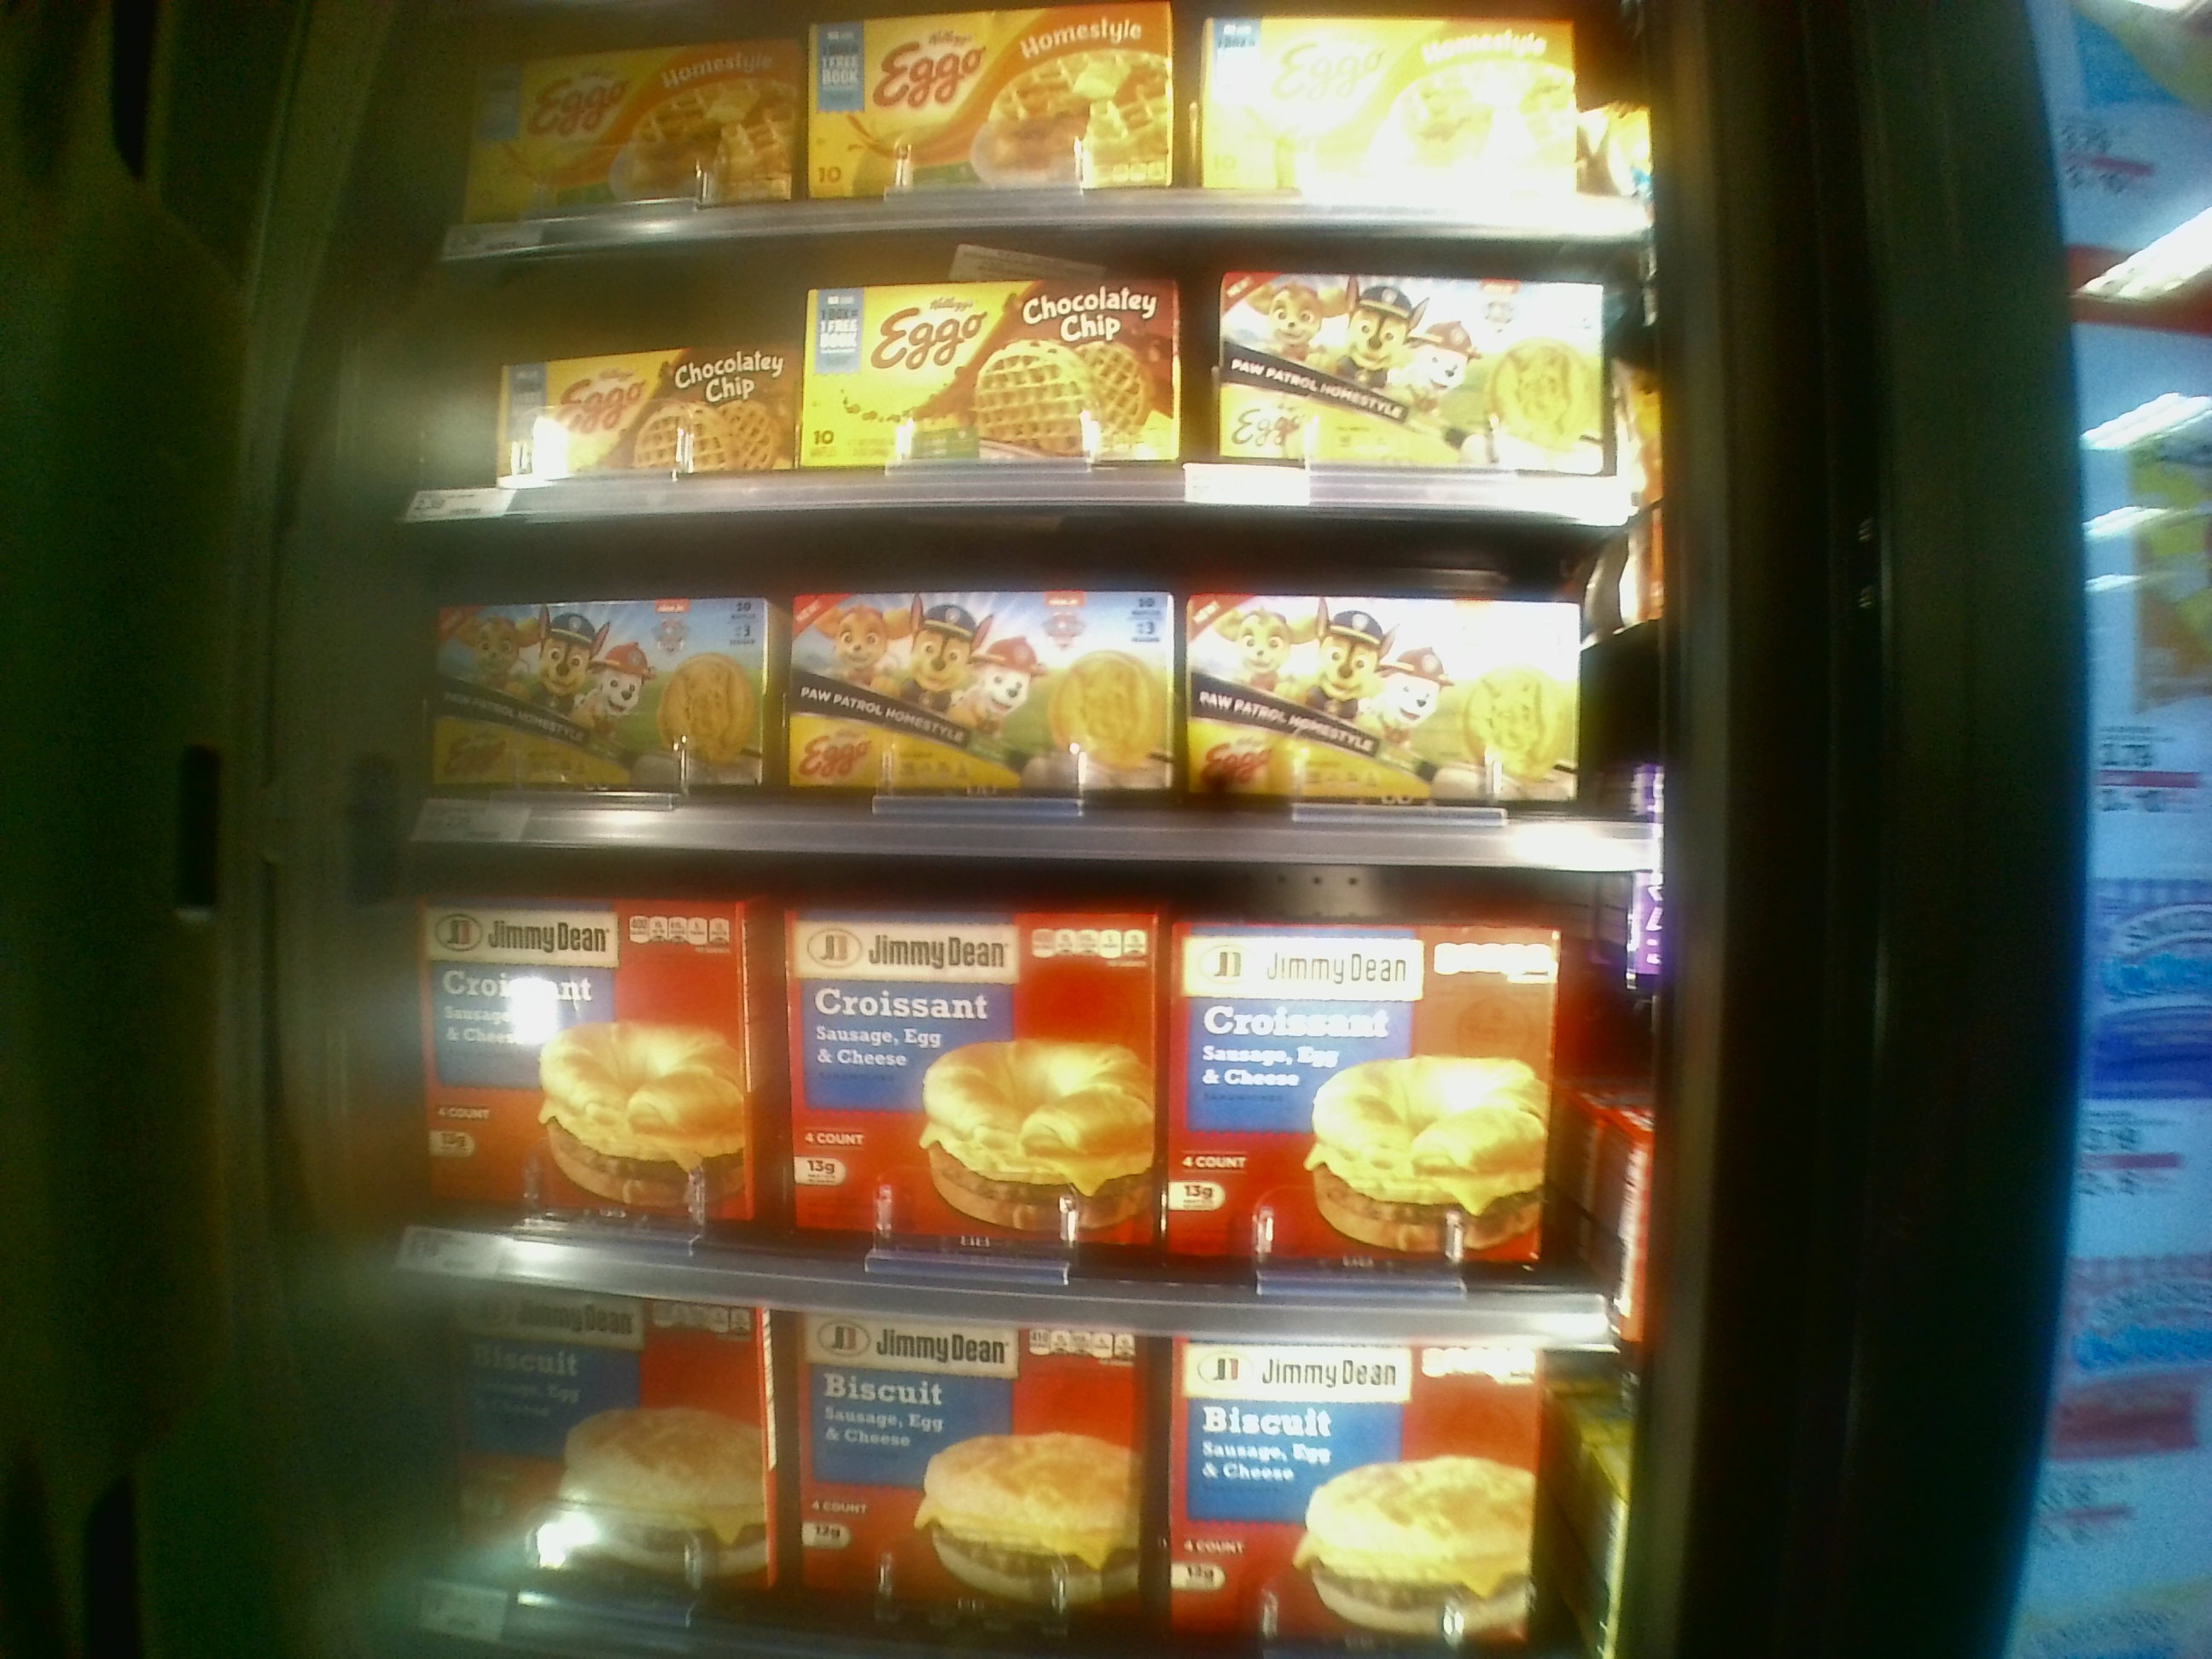shelf: (399, 505, 1656, 864)
